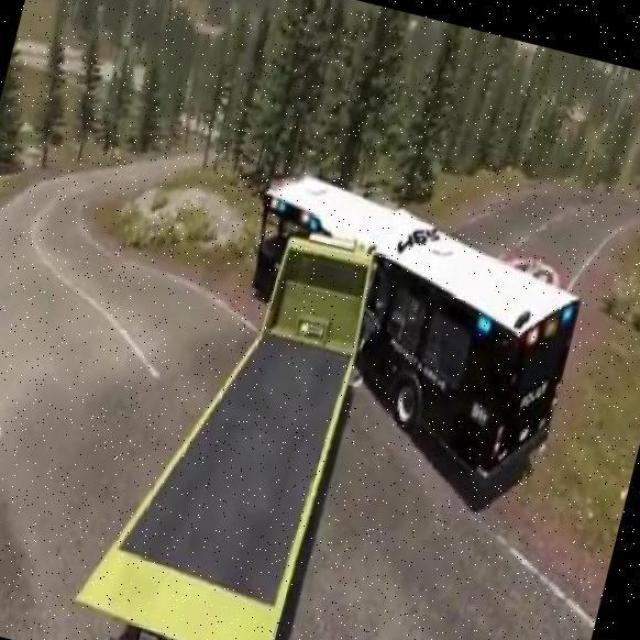accident: (226, 184, 458, 393)
